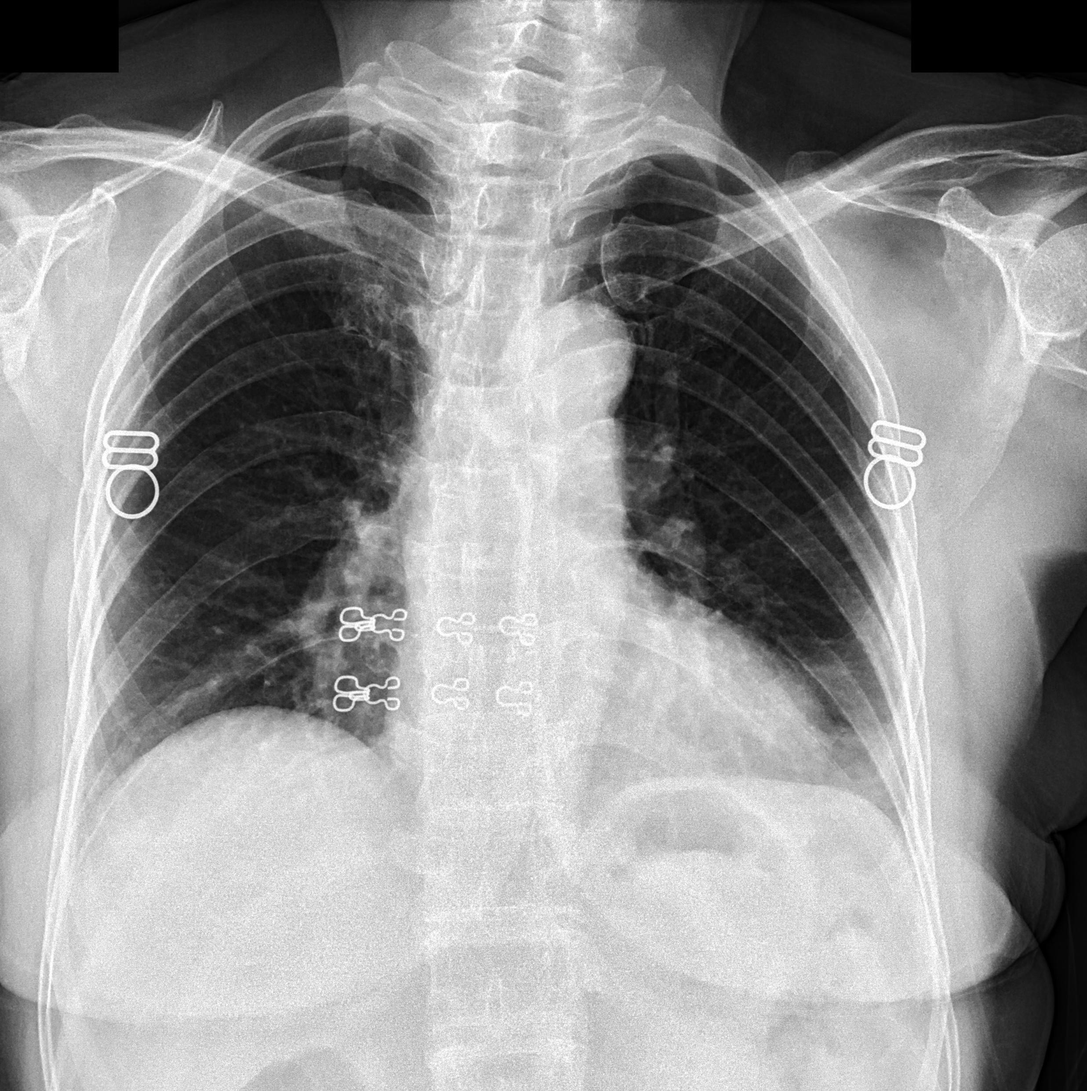Aortic enlargement: (497, 290, 639, 425)
Cardiomegaly: (372, 651, 842, 802)
